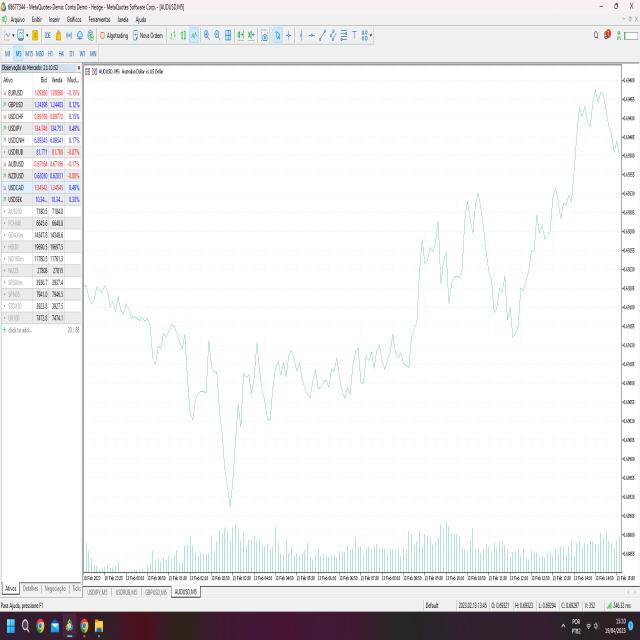fundo_duplo: (481, 260, 533, 358)
oco_inv: (178, 307, 280, 542)
topo_duplo: (458, 177, 488, 253)
